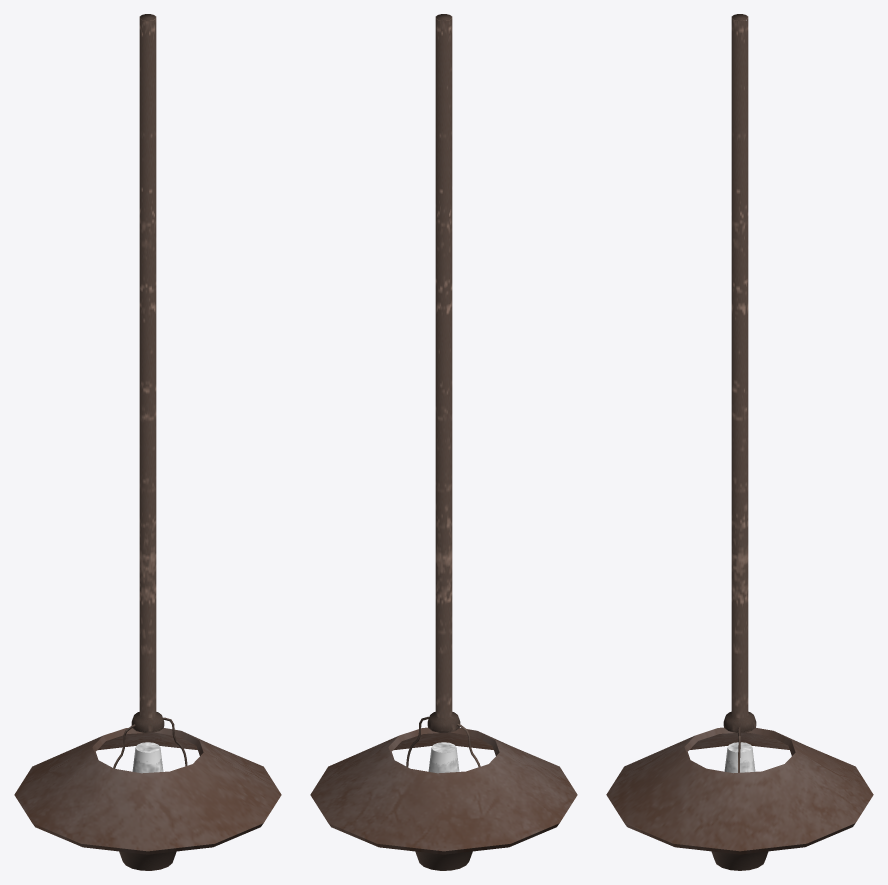
Rendered from Lustre.fbx.
The picture shows the model from 3 angles, left to right: view 1: azimuth 30°, elevation 25°; view 2: azimuth 150°, elevation 25°; view 3: azimuth 270°, elevation 25°; orthographic projection.
Visible parts, largest first — view 1: Cylinder.001, Sphere.001; view 2: Cylinder.001, Sphere.001; view 3: Cylinder.001, Sphere.001.
Part boxes in pixels (x1=…): Cylinder.001: x1=14, y1=14, x2=281, y2=870; Sphere.001: x1=132, y1=742, x2=163, y2=773; Cylinder.001: x1=310, y1=14, x2=577, y2=870; Sphere.001: x1=428, y1=742, x2=459, y2=773; Cylinder.001: x1=606, y1=14, x2=873, y2=870; Sphere.001: x1=724, y1=742, x2=755, y2=773.
Bounding box in the file's own units: 40.38 × 140 × 40.38.
